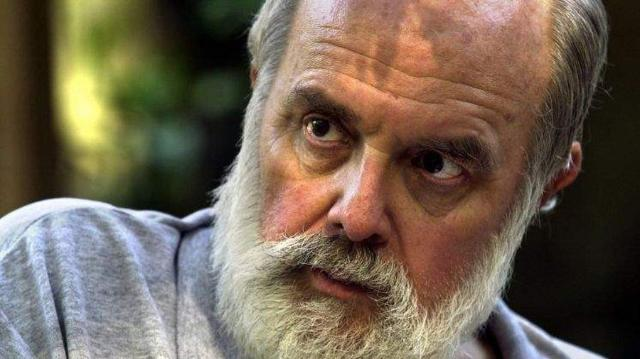forehead: (318, 31, 366, 62), (394, 85, 438, 117), (456, 93, 496, 127), (391, 64, 447, 88), (342, 66, 382, 96), (452, 71, 478, 95)
frown_line: (367, 140, 389, 156)
gummy_smile: (305, 197, 329, 226)
